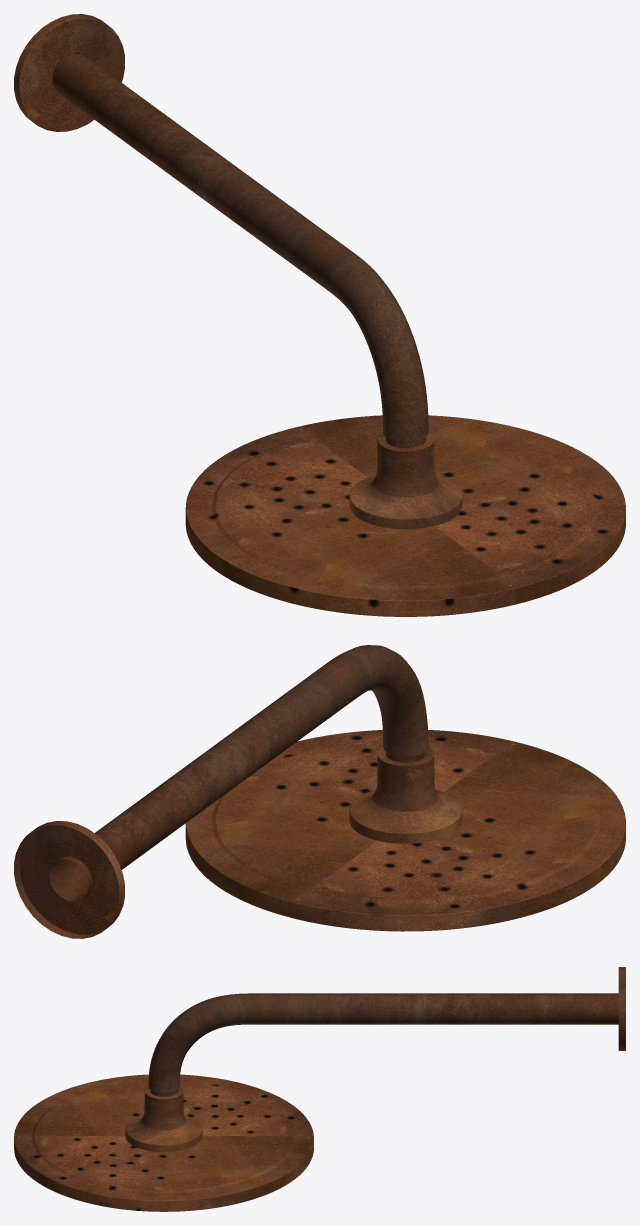
Rendered from shower.fbx.
3 views of the same model, one above another, from view 1: azimuth 30°, elevation 25°; view 2: azimuth 150°, elevation 25°; view 3: azimuth 270°, elevation 25° (orthographic). The views are drawn at different scales.
Parts seen in each view (by area): view 1: ShowerHeadRound001_Geo_LOD0; view 2: ShowerHeadRound001_Geo_LOD0; view 3: ShowerHeadRound001_Geo_LOD0.
Boxes of the visible parts, x1,y1,x2,y2 form: ShowerHeadRound001_Geo_LOD0: [14, 14, 625, 616]; ShowerHeadRound001_Geo_LOD0: [14, 645, 625, 938]; ShowerHeadRound001_Geo_LOD0: [14, 967, 625, 1211].
Size of the model in its own units: 25.63 by 16.95 by 52.28.
